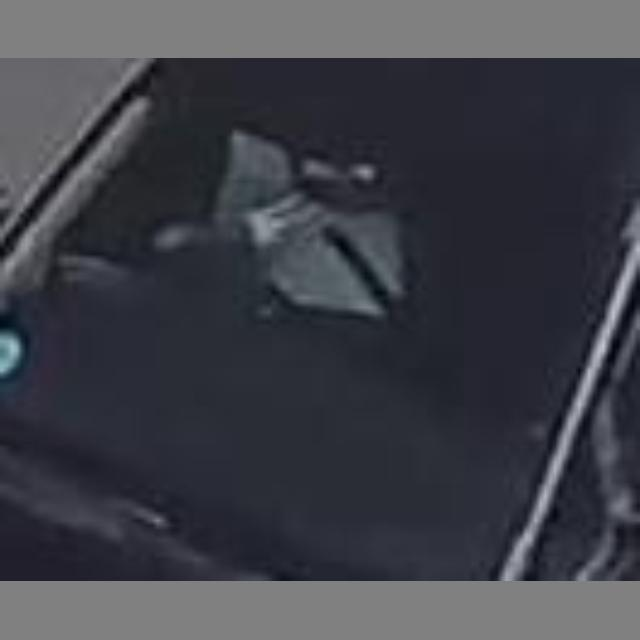pakai: (179, 121, 427, 334)
